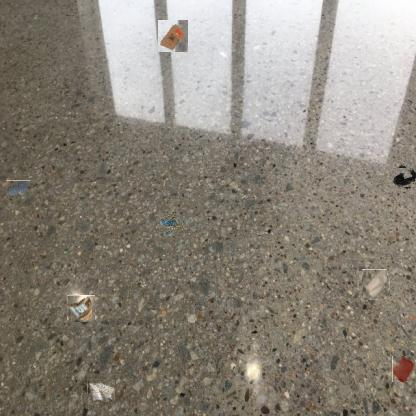dirty: (158, 20, 188, 52), (360, 270, 389, 299), (67, 295, 95, 322), (87, 380, 115, 402), (394, 166, 416, 188), (161, 214, 181, 233)
liquid: (392, 356, 415, 382), (6, 180, 30, 197)
